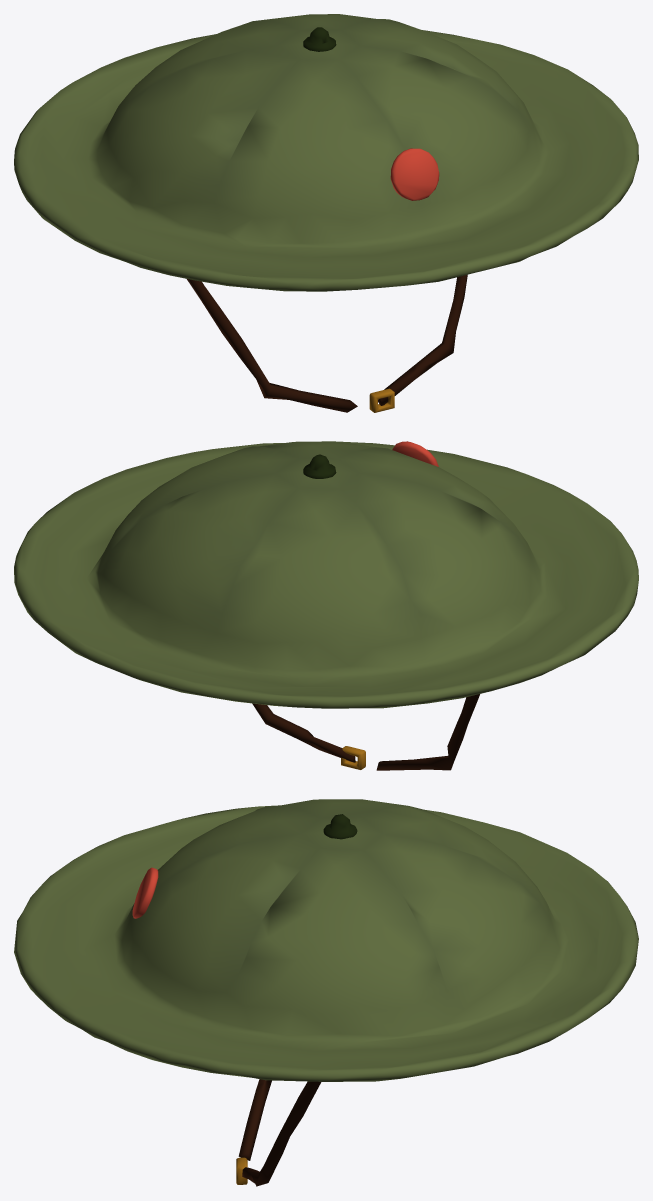
Rendered from mucoi.glb.
The picture shows the model from 3 angles, top to bottom: view 1: azimuth 30°, elevation 25°; view 2: azimuth 150°, elevation 25°; view 3: azimuth 270°, elevation 25°; orthographic projection. The views are drawn at different scales.
Visible parts, largest first — view 1: Mu_Coi, Quai_Da, Huy_Hieu, Nut_Thong; view 2: Mu_Coi, Quai_Da, Nut_Thong, Huy_Hieu; view 3: Mu_Coi, Quai_Da, Huy_Hieu, Nut_Thong.
Boxes of the visible parts, box(x1,y1,x2,y2) form: Mu_Coi: box(14, 14, 638, 291); Quai_Da: box(187, 274, 467, 412); Huy_Hieu: box(390, 148, 439, 200); Nut_Thong: box(303, 27, 336, 51); Mu_Coi: box(14, 441, 638, 708); Quai_Da: box(252, 694, 479, 770); Nut_Thong: box(303, 454, 336, 478); Huy_Hieu: box(392, 441, 438, 466); Mu_Coi: box(14, 799, 638, 1081); Quai_Da: box(238, 1079, 321, 1186); Huy_Hieu: box(132, 867, 158, 918); Nut_Thong: box(323, 814, 357, 839).
Size of the model in its own units: 0.4522 by 0.2771 by 0.4385.
